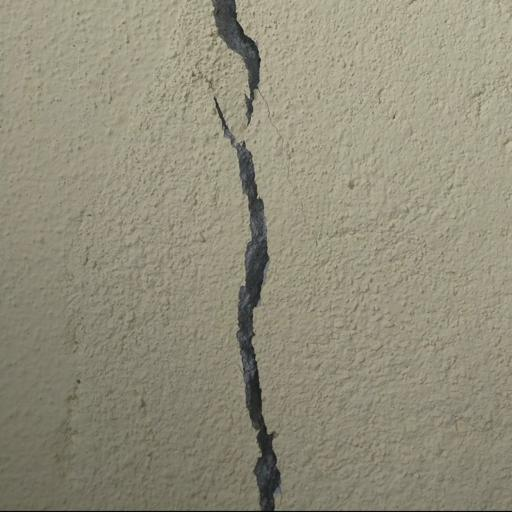major_crack: (196, 0, 316, 512)
